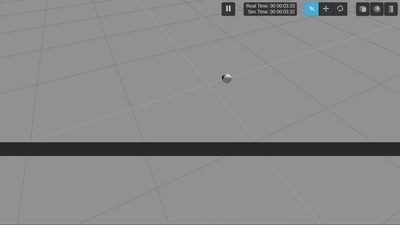mira_robot: (221, 73, 232, 82)
